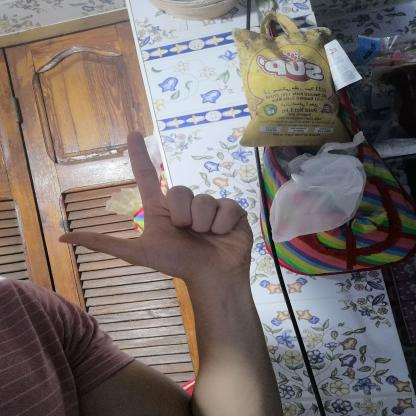LAAM: (35, 121, 273, 292)
